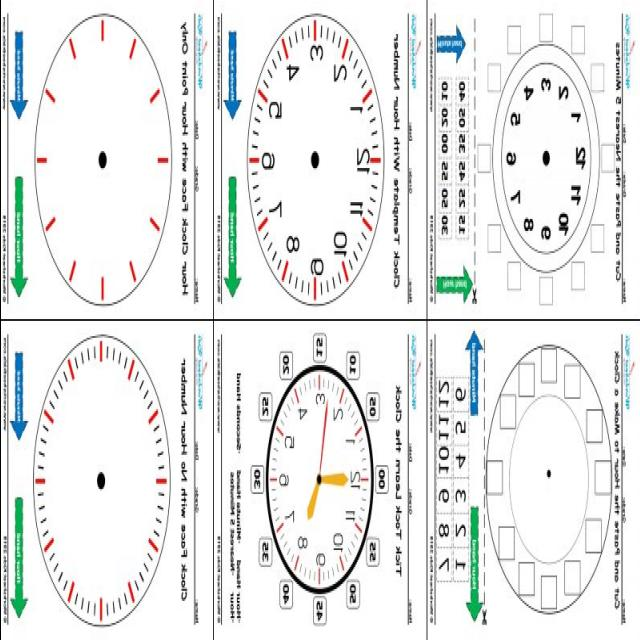clock: (134, 0, 604, 623)
